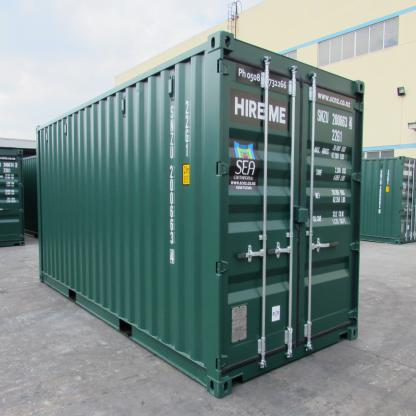Damage: (197, 365, 230, 396), (42, 233, 60, 248)
